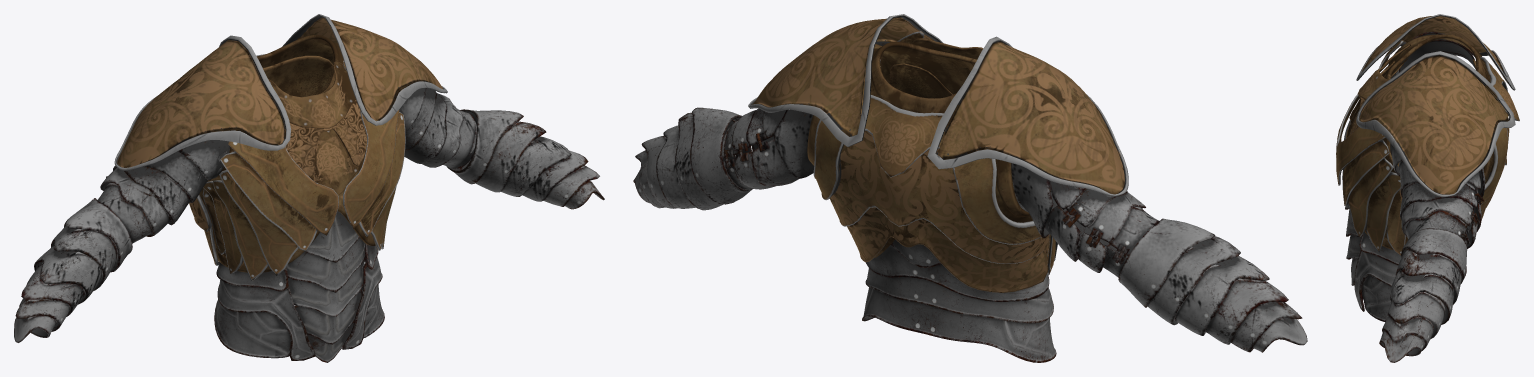
The model's file is free_-_male_armour_-4-_game_ready.glb.
The picture shows the model from 3 angles, left to right: view 1: azimuth 30°, elevation 25°; view 2: azimuth 150°, elevation 25°; view 3: azimuth 270°, elevation 25°; orthographic projection. The views are drawn at different scales.
Parts seen in each view (by area): view 1: Arm, Ch1, Ch3, Ch2; view 2: Arm, Ch1, Ch3, Ch2; view 3: Ch1, Arm, Ch3, Ch2.
Boxes of the visible parts, x1,y1,x2,y2 form: Arm: (14, 88, 604, 342); Ch1: (114, 14, 447, 272); Ch3: (189, 54, 405, 280); Ch2: (214, 211, 384, 362); Arm: (633, 107, 1307, 352); Ch1: (748, 14, 1128, 269); Ch3: (813, 31, 1057, 292); Ch2: (862, 239, 1056, 362); Ch1: (1346, 14, 1515, 250); Arm: (1379, 31, 1485, 362); Ch3: (1336, 40, 1519, 255); Ch2: (1345, 171, 1479, 321).
Size of the model in its own units: 2.03 by 1.01 by 0.6144.
4 materials, 4 textured.
